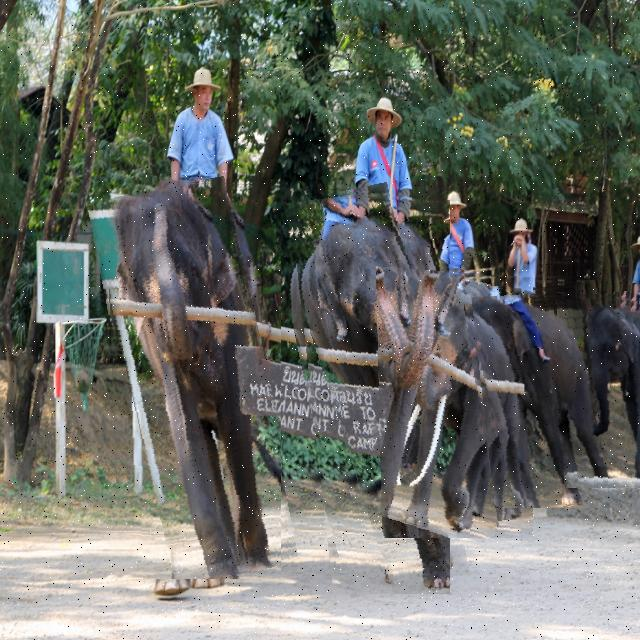elephant: (105, 181, 281, 579), (288, 186, 450, 594), (376, 266, 533, 538), (470, 284, 622, 508), (556, 293, 640, 488)
